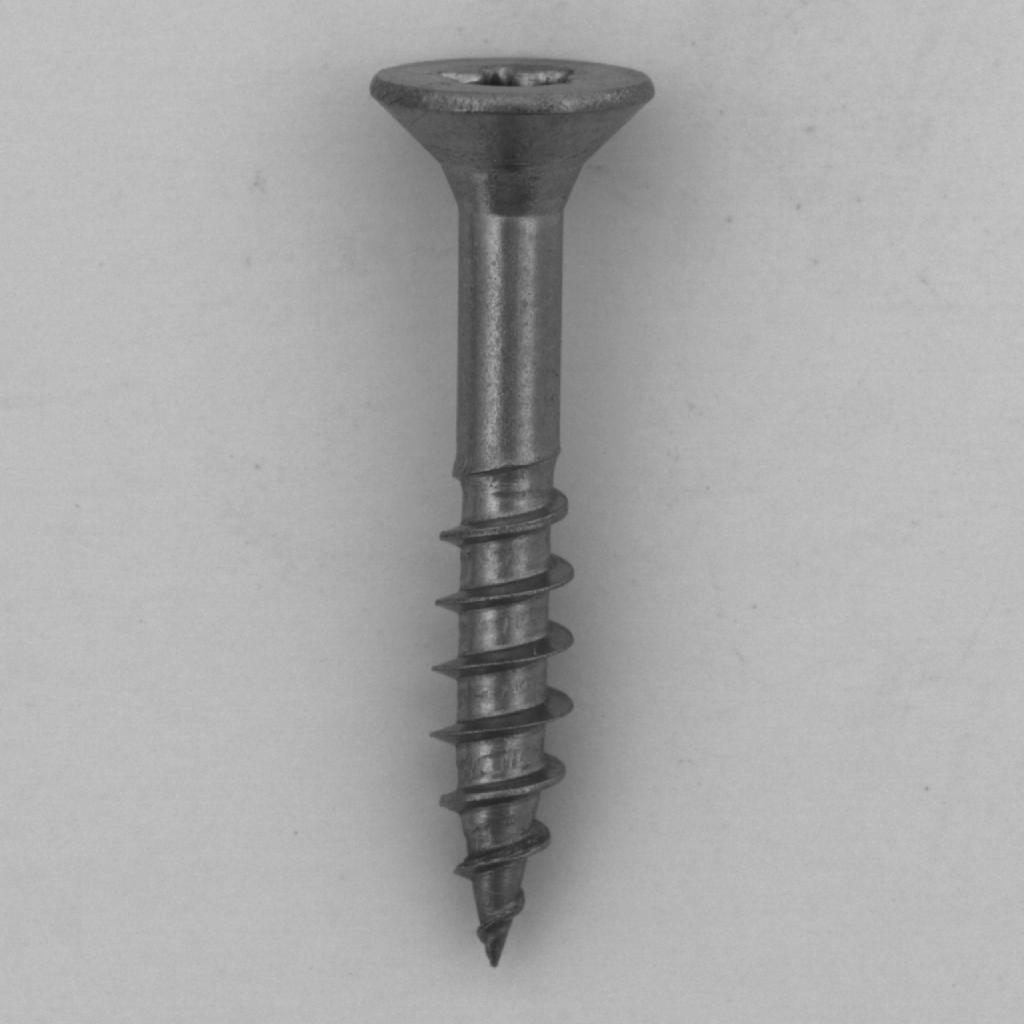good: (354, 41, 668, 981)
